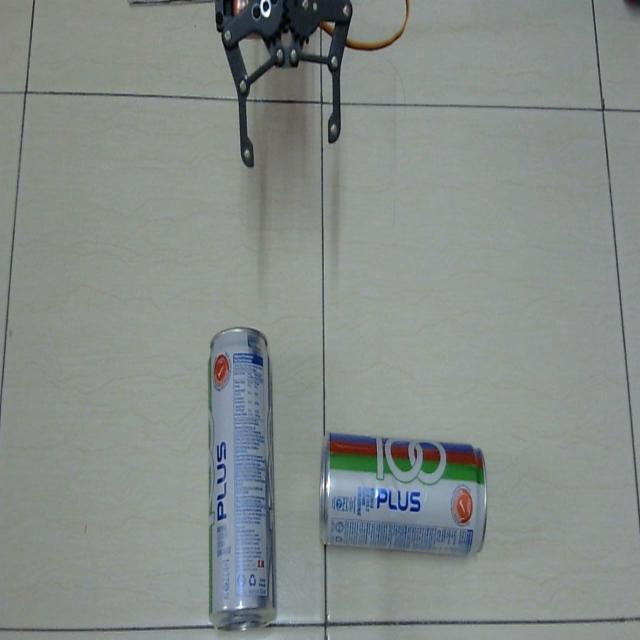metal_laydown_0rotation: (317, 428, 489, 561)
metal_laydown_90rotation: (203, 321, 282, 632)
